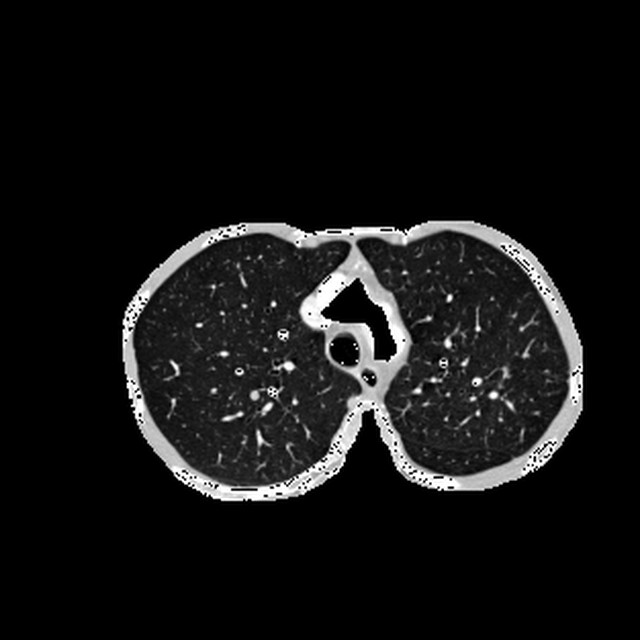PN: (249, 391, 258, 399)
